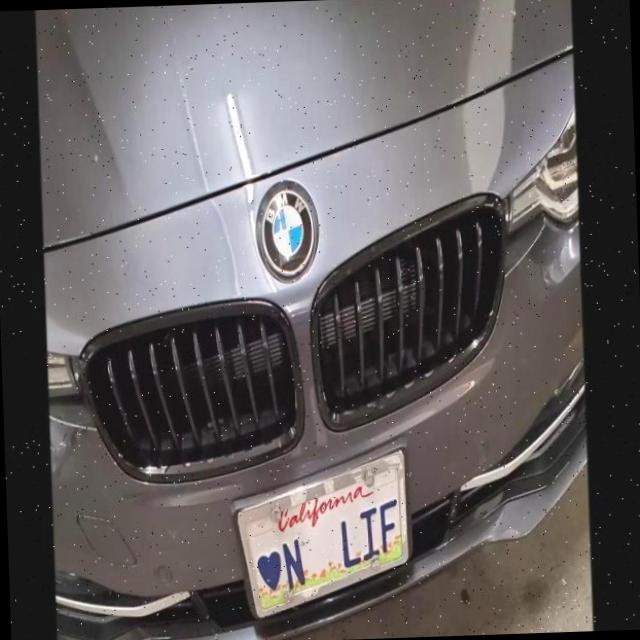LicensePlate: (238, 471, 422, 610)
